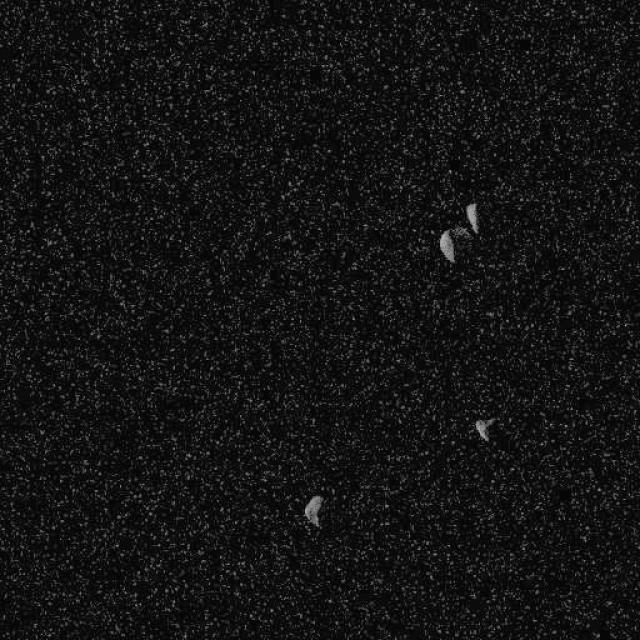D2: (302, 493, 324, 528), (472, 415, 498, 443), (438, 228, 457, 262), (464, 202, 480, 232)
